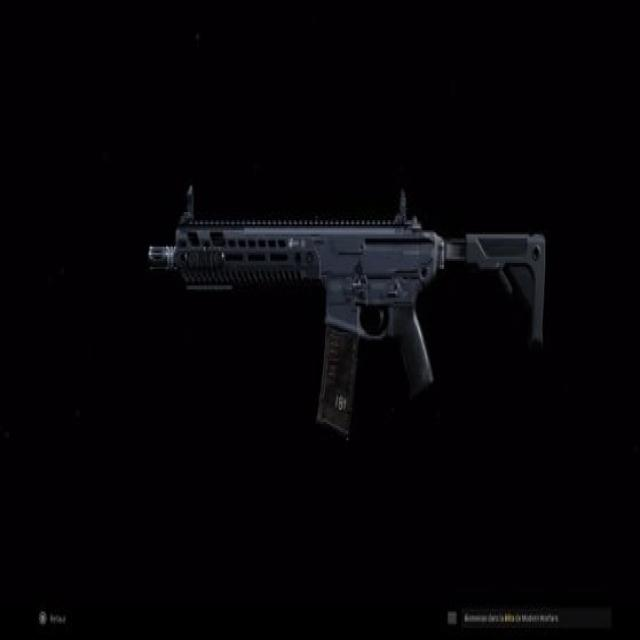Rifle: (149, 190, 544, 438)
